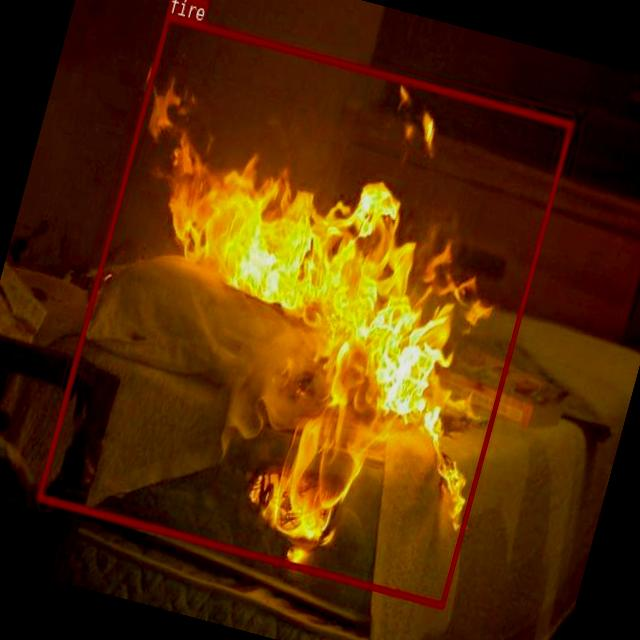fire: (36, 12, 574, 608)
